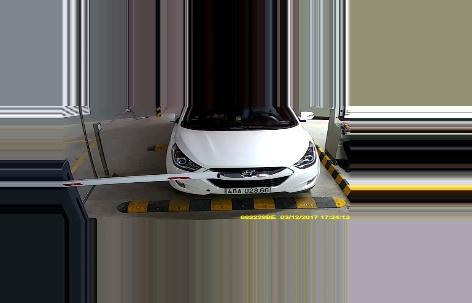plate: (224, 183, 272, 196)
